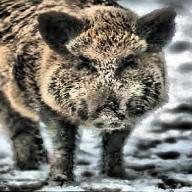boar: (0, 0, 174, 189)
